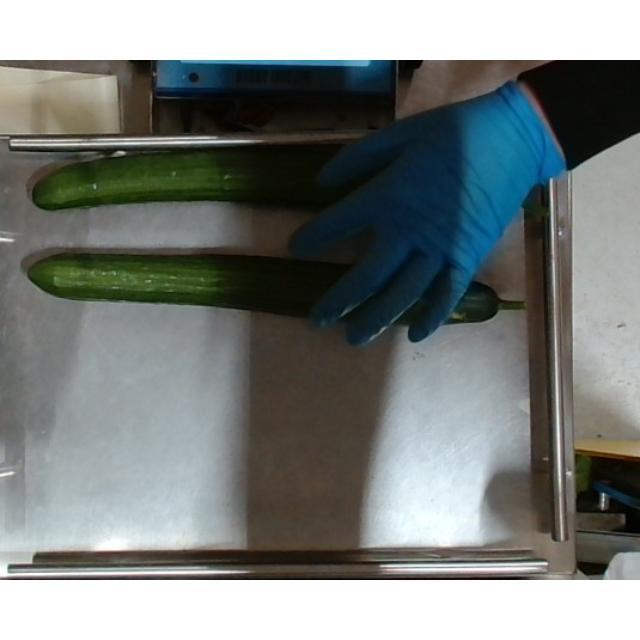cucumber: (28, 254, 524, 328), (32, 142, 500, 210)
